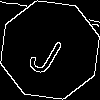J: (25, 25, 71, 78)
